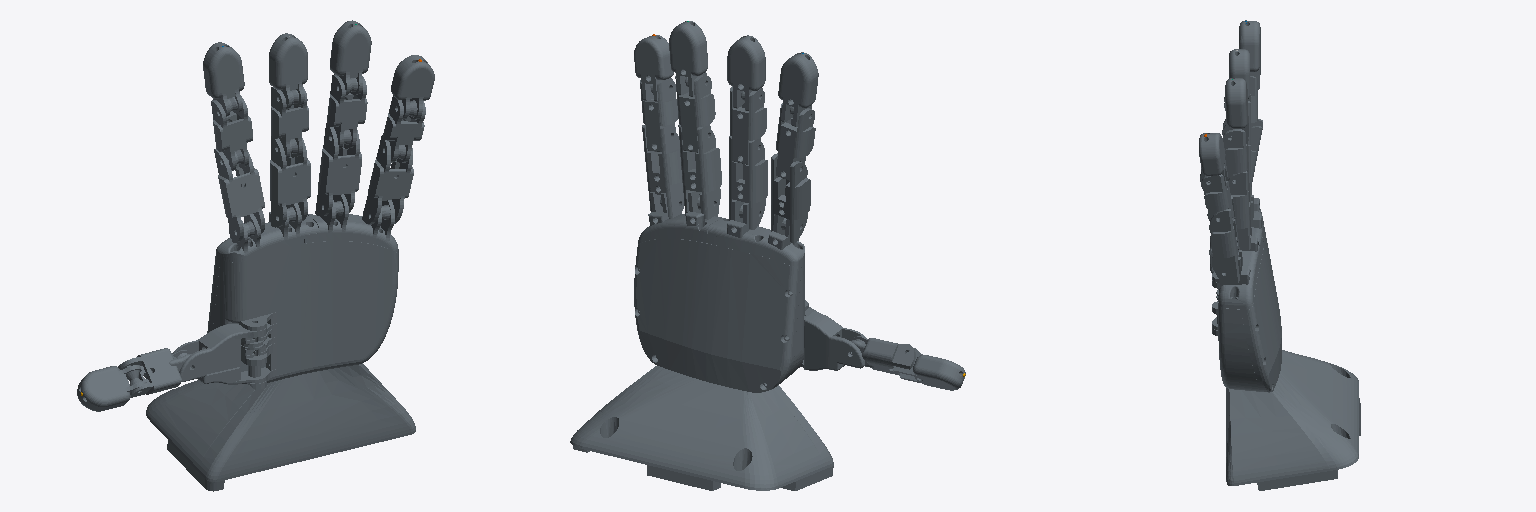
The robot description file, URDF, robot "ruka_left_hand":
<?xml version='1.0' encoding='utf-8'?>
<robot name="ruka_left_hand">
  <material name="ruka_grey">
    <color rgba="0.439 0.475 0.502 1" />
  </material>
  <link name="base_link">
    <inertial>
      <origin xyz="0 0 0" rpy="0 0 0" />
      <mass value="0.001" />
      <inertia ixx="1e-06" ixy="0" ixz="0" iyy="1e-06" iyz="0" izz="1e-06" />
    </inertial>
  </link>
  <joint name="base_to_palm" type="fixed">
    <parent link="base_link" />
    <child link="Palm_Link" />
    <origin xyz="0 0 0" rpy="3.14159265 0 0" />
  </joint>
  <link name="Palm_Link">
    <inertial>
      <origin xyz="0 0 0" rpy="0 0 0" />
      <mass value="0.05" />
      <inertia ixx="0.0001" ixy="0" ixz="0" iyy="0.0001" iyz="0" izz="0.0001" />
    </inertial>
    <visual name="Palm">
      <origin xyz="0 0 0" rpy="0 -0 0" />
      <geometry>
        <mesh filename="meshes_left/Palm.STL" />
      </geometry>
      <material name="ruka_grey">
        <color rgba="0.439 0.475 0.502 1" />
      </material>
    </visual>
    <collision name="Palm_c">
      <origin xyz="-0.004 0.009 -0.02" rpy="0 -0 0" />
      <geometry>
        <box size="0.084 0.021 0.116" />
      </geometry>
    </collision>
  </link>
  <joint name="Index_MCP_Joint" type="revolute">
    <parent link="Palm_Link" />
    <child link="Index_MCP_Link" />
    <origin xyz="-0.0322 0.0146007 -0.08022" rpy="2.53259463 1.36009924 -2.12570493" />
    <axis xyz="0 1 0" />
    <limit lower="-2.44222" upper="-0" effort="10" velocity="10" />
    <dynamics damping="0.05" friction="0.01" />
  </joint>
  <link name="Index_MCP_Link">
    <inertial>
      <origin xyz="-0.0288724 -1.28993e-08 0.00378475" rpy="0 0 0" />
      <mass value="0.00327912" />
      <inertia ixx="1.41290423e-07" ixy="0" ixz="8.23038687e-10" iyy="3.58574e-07" iyz="0" izz="4.20814577e-07" />
    </inertial>
    <collision name="Index_MCP_C">
      <origin xyz="0.016 0.005 0.0001" rpy="0 -0 0" />
      <geometry>
        <box size="0.03 0.014 0.01" />
      </geometry>
    </collision>
    <visual name="Index_MCP">
      <origin xyz="0.046 0.005 -0.003" rpy="0 -0 0" />
      <geometry>
        <mesh filename="meshes_left/Index_MCP.STL" />
      </geometry>
      <material name="ruka_grey">
        <color rgba="0.439 0.475 0.502 1" />
      </material>
    </visual>
  </link>
  <joint name="Index_DIP_Joint" type="revolute">
    <parent link="Index_MCP_Link" />
    <child link="Index_DIP_Link" />
    <origin xyz="0.035057 0 0.002" rpy="0 -0.174529998 0" />
    <axis xyz="0 1 0" />
    <limit lower="-2.09" upper="-0" effort="10" velocity="10" />
    <dynamics damping="0.05" friction="0.01" />
  </joint>
  <link name="Index_DIP_Link">
    <inertial>
      <origin xyz="-0.000734414 -1.34435e-07 0.00333493" rpy="0 0 0" />
      <mass value="0.0030053" />
      <inertia ixx="9.14346587e-08" ixy="0" ixz="-9.51029437e-09" iyy="2.50136e-07" iyz="0" izz="2.77490141e-07" />
    </inertial>
    <visual name="Index_DIP">
      <origin xyz="0.012 0.005 -0.003" rpy="0 -0 0" />
      <geometry>
        <mesh filename="meshes_left/Index_DIP.STL" />
      </geometry>
      <material name="ruka_grey">
        <color rgba="0.439 0.475 0.502 1" />
      </material>
    </visual>
    <collision name="Index_DIP_c">
      <origin xyz="0.012 0.005 0" rpy="0 -0 0" />
      <geometry>
        <box size="0.034 0.014 0.01" />
      </geometry>
    </collision>
  </link>
  <joint name="Index_PIP_Joint" type="revolute">
    <parent link="Index_DIP_Link" />
    <child link="Index_PIP_Link" />
    <origin xyz="0.027 0.0045 0.001" rpy="0 -0 0" />
    <axis xyz="0 1 0" />
    <limit lower="-2.09" upper="-0" effort="10" velocity="10" />
    <dynamics damping="0.05" friction="0.01" />
  </joint>
  <link name="Index_PIP_Link">
    <inertial>
      <origin xyz="0.0274083 1.00211e-07 0.00320314" rpy="0 0 0" />
      <mass value="0.00356977" />
      <inertia ixx="1.11979619e-07" ixy="-1.93265309e-12" ixz="1.23407277e-08" iyy="2.91756e-07" iyz="1.0799934e-13" izz="3.32127381e-07" />
    </inertial>
    <visual name="Index_PIP">
      <origin xyz="-0.013 0.0004 -0.005" rpy="0 -0 0" />
      <geometry>
        <mesh filename="meshes_left/Index_PIP.STL" />
      </geometry>
      <material name="ruka_grey">
        <color rgba="0.439 0.475 0.502 1" />
      </material>
    </visual>
    <collision name="Index_PIP_c">
      <origin xyz="0.015 0.0004 -0.002" rpy="0 -0 0" />
      <geometry>
        <box size="0.029 0.014 0.01" />
      </geometry>
    </collision>
    <visual name="Index_TIP">
      <origin xyz="0.03 0 0" rpy="0 -0 0" />
      <geometry>
        <sphere radius="0.001" />
      </geometry>
    </visual>
  </link>
  <joint name="Middle_MCP_Joint" type="revolute">
    <parent link="Palm_Link" />
    <child link="Middle_MCP_Link" />
    <origin xyz="-0.01518 0.0135414 -0.081" rpy="-1.57079633 1.57079633 0" />
    <axis xyz="0 1 0" />
    <limit lower="-2.44222" upper="-0" effort="10" velocity="10" />
    <dynamics damping="0.05" friction="0.01" />
  </joint>
  <link name="Middle_MCP_Link">
    <inertial>
      <origin xyz="-0.0288724 -9.49408e-09 0.00378477" rpy="0 0 0" />
      <mass value="0.00327911" />
      <inertia ixx="1.41290423e-07" ixy="0" ixz="8.23032798e-10" iyy="3.58572e-07" iyz="0" izz="4.20812577e-07" />
    </inertial>
    <visual name="Middle_MCP">
      <origin xyz="0.046 0 -0.003" rpy="0 -0 0" />
      <geometry>
        <mesh filename="meshes_left/Middle_MCP.STL" />
      </geometry>
      <material name="ruka_grey">
        <color rgba="0.439 0.475 0.502 1" />
      </material>
    </visual>
    <collision name="Middle_MCP_c">
      <origin xyz="0.016 0 0.0001" rpy="0 -0 0" />
      <geometry>
        <box size="0.034 0.014 0.01" />
      </geometry>
    </collision>
  </link>
  <joint name="Middle_DIP_Joint" type="revolute">
    <parent link="Middle_MCP_Link" />
    <child link="Middle_DIP_Link" />
    <origin xyz="0.034 0 0" rpy="0 -0 0" />
    <axis xyz="0 1 0" />
    <limit lower="-2.09" upper="-0" effort="10" velocity="10" />
    <dynamics damping="0.05" friction="0.01" />
  </joint>
  <link name="Middle_DIP_Link">
    <inertial>
      <origin xyz="-0.000734412 -1.31357e-07 0.00333494" rpy="0 0 0" />
      <mass value="0.0030053" />
      <inertia ixx="9.14347584e-08" ixy="0" ixz="-9.51028928e-09" iyy="2.50136e-07" iyz="0" izz="2.77490142e-07" />
    </inertial>
    <visual name="Middle_DIP">
      <origin xyz="0.012 0 -0.003" rpy="0 -0 0" />
      <geometry>
        <mesh filename="meshes_left/Middle_DIP.STL" />
      </geometry>
      <material name="ruka_grey">
        <color rgba="0.439 0.475 0.502 1" />
      </material>
    </visual>
    <collision name="Middle_DIP_c">
      <origin xyz="0.012 0 0" rpy="0 -0 0" />
      <geometry>
        <box size="0.034 0.014 0.01" />
      </geometry>
    </collision>
  </link>
  <joint name="Middle_PIP_Joint" type="revolute">
    <parent link="Middle_DIP_Link" />
    <child link="Middle_PIP_Link" />
    <origin xyz="0.026 0 0.002" rpy="0 -0 0" />
    <axis xyz="0 1 0" />
    <limit lower="-2.09" upper="-0" effort="10" velocity="10" />
    <dynamics damping="0.05" friction="0.01" />
  </joint>
  <link name="Middle_PIP_Link">
    <inertial>
      <origin xyz="0.0274083 9.97469e-08 0.00320314" rpy="0 0 0" />
      <mass value="0.00356977" />
      <inertia ixx="1.11979619e-07" ixy="-1.75842084e-12" ixz="1.23407277e-08" iyy="2.91756e-07" iyz="9.82628583e-14" izz="3.32127381e-07" />
    </inertial>
    <visual name="Middle_PIP">
      <origin xyz="-0.014 0 -0.0045" rpy="0 -0 0" />
      <geometry>
        <mesh filename="meshes_left/Middle_PIP.STL" />
      </geometry>
      <material name="ruka_grey">
        <color rgba="0.439 0.475 0.502 1" />
      </material>
    </visual>
    <collision name="Middle_PIP_c">
      <origin xyz="0.015 0.0004 -0.002" rpy="0 -0 0" />
      <geometry>
        <box size="0.029 0.014 0.01" />
      </geometry>
    </collision>
    <visual name="Middle_TIP">
      <origin xyz="0.029 0 0" rpy="0 -0 0" />
      <geometry>
        <sphere radius="0.001" />
      </geometry>
    </visual>
  </link>
  <joint name="Ring_MCP_Joint" type="revolute">
    <parent link="Palm_Link" />
    <child link="Ring_MCP_Link" />
    <origin xyz="0.0088 0.01453 -0.08009" rpy="-1.28059549 1.45980129 0.348614064" />
    <axis xyz="0 1 0" />
    <limit lower="-2.44222" upper="-0" effort="10" velocity="10" />
    <dynamics damping="0.05" friction="0.01" />
  </joint>
  <link name="Ring_MCP_Link">
    <inertial>
      <origin xyz="-0.0288724 -7.11557e-09 0.00378476" rpy="0 0 0" />
      <mass value="0.00327912" />
      <inertia ixx="1.41290423e-07" ixy="0" ixz="8.23038687e-10" iyy="3.58574e-07" iyz="0" izz="4.20814577e-07" />
    </inertial>
    <visual name="Ring_MCP">
      <origin xyz="0.046 0 -0.004" rpy="0 -0 0" />
      <geometry>
        <mesh filename="meshes_left/Ring_MCP.STL" />
      </geometry>
      <material name="ruka_grey">
        <color rgba="0.439 0.475 0.502 1" />
      </material>
    </visual>
    <collision name="Ring_MCP_c">
      <origin xyz="0.016 0 0.0001" rpy="0 -0 0" />
      <geometry>
        <box size="0.03 0.014 0.01" />
      </geometry>
    </collision>
  </link>
  <joint name="Ring_DIP_Joint" type="revolute">
    <parent link="Ring_MCP_Link" />
    <child link="Ring_DIP_Link" />
    <origin xyz="0.036 0 0" rpy="0 -0 0" />
    <axis xyz="0 1 0" />
    <limit lower="-2.09" upper="-0" effort="10" velocity="10" />
    <dynamics damping="0.05" friction="0.01" />
  </joint>
  <link name="Ring_DIP_Link">
    <inertial>
      <origin xyz="-0.000734409 -1.29347e-07 0.00333494" rpy="0 0 0" />
      <mass value="0.00300529" />
      <inertia ixx="9.14347584e-08" ixy="0" ixz="-9.51028928e-09" iyy="2.50136e-07" iyz="0" izz="2.77490142e-07" />
    </inertial>
    <visual name="Ring_DIP">
      <origin xyz="0.01 0 -0.004" rpy="0 -0 0" />
      <geometry>
        <mesh filename="meshes_left/Ring_DIP.STL" />
      </geometry>
      <material name="ruka_grey">
        <color rgba="0.439 0.475 0.502 1" />
      </material>
    </visual>
    <collision name="Ring_DIP_c">
      <origin xyz="0.01 0 0" rpy="0 -0 0" />
      <geometry>
        <box size="0.03 0.014 0.01" />
      </geometry>
    </collision>
  </link>
  <joint name="Ring_PIP_Joint" type="revolute">
    <parent link="Ring_DIP_Link" />
    <child link="Ring_PIP_Link" />
    <origin xyz="0.025746 0 0" rpy="0 -0 0" />
    <axis xyz="0 1 0" />
    <limit lower="-2.09" upper="-0" effort="10" velocity="10" />
    <dynamics damping="0.05" friction="0.01" />
  </joint>
  <link name="Ring_PIP_Link">
    <inertial>
      <origin xyz="0.0274083 1.00945e-07 0.00320315" rpy="0 0 0" />
      <mass value="0.00356976" />
      <inertia ixx="1.1197958e-07" ixy="-1.68673134e-12" ixz="1.23403521e-08" iyy="2.91756e-07" iyz="9.42545028e-14" izz="3.3212642e-07" />
    </inertial>
    <visual name="Ring_PIP">
      <origin xyz="-0.015 0 -0.005" rpy="0 -0 0" />
      <geometry>
        <mesh filename="meshes_left/Ring_PIP.STL" />
      </geometry>
      <material name="ruka_grey">
        <color rgba="0.439 0.475 0.502 1" />
      </material>
    </visual>
    <collision name="Ring_PIP_c">
      <origin xyz="0.013 0.0001 -0.0017" rpy="0 -0 0" />
      <geometry>
        <box size="0.028 0.014 0.01" />
      </geometry>
    </collision>
    <visual name="Ring_TIP">
      <origin xyz="0.028 0 0" rpy="0 -0 0" />
      <geometry>
        <sphere radius="0.001" />
      </geometry>
    </visual>
  </link>
  <joint name="Pinky_MCP_Joint" type="revolute">
    <parent link="Palm_Link" />
    <child link="Pinky_MCP_Link" />
    <origin xyz="0.030617 0.020313 -0.07398" rpy="-1.14039703 1.36180011 0.55660297" />
    <axis xyz="0 1 0" />
    <limit lower="-2.44222" upper="-0" effort="10" velocity="10" />
    <dynamics damping="0.05" friction="0.01" />
  </joint>
  <link name="Pinky_MCP_Link">
    <inertial>
      <origin xyz="-0.0268917 -2.1328e-08 0.00337657" rpy="0 0 0" />
      <mass value="0.00308279" />
      <inertia ixx="1.30752033e-07" ixy="-1.67729172e-12" ixz="-2.08801325e-09" iyy="3.31476e-07" iyz="-1.36821654e-14" izz="3.86700967e-07" />
    </inertial>
    <visual name="Pinky_MCP">
      <origin xyz="0.042 0 -0.004" rpy="0 -0 0" />
      <geometry>
        <mesh filename="meshes_left/Pinky_MCP.STL" />
      </geometry>
      <material name="ruka_grey">
        <color rgba="0.439 0.475 0.502 1" />
      </material>
    </visual>
    <collision name="Pinky_MCP_c">
      <origin xyz="0.014 0 0" rpy="0 -0 0" />
      <geometry>
        <box size="0.034 0.014 0.01" />
      </geometry>
    </collision>
  </link>
  <joint name="Pinky_DIP_Joint" type="revolute">
    <parent link="Pinky_MCP_Link" />
    <child link="Pinky_DIP_Link" />
    <origin xyz="0.032 0 0" rpy="0 -0.0277350847 0" />
    <axis xyz="0 1 0" />
    <limit lower="-2.09" upper="-0" effort="10" velocity="10" />
    <dynamics damping="0.05" friction="0.01" />
  </joint>
  <link name="Pinky_DIP_Link">
    <inertial>
      <origin xyz="-0.000757212 -1.38277e-07 0.00329943" rpy="0 0 0" />
      <mass value="0.00260945" />
      <inertia ixx="7.77156573e-08" ixy="0" ixz="-8.13321083e-09" iyy="1.89485e-07" iyz="0" izz="2.12042343e-07" />
    </inertial>
    <visual name="Pinky_DIP">
      <origin xyz="0.01 0 -0.0037" rpy="0 -0 0" />
      <geometry>
        <mesh filename="meshes_left/Pinky_DIP.STL" />
      </geometry>
      <material name="ruka_grey">
        <color rgba="0.439 0.475 0.502 1" />
      </material>
    </visual>
    <collision name="Pinky_DIP_c">
      <origin xyz="0.01 0 0" rpy="0 -0 0" />
      <geometry>
        <box size="0.03 0.014 0.01" />
      </geometry>
    </collision>
  </link>
  <joint name="Pinky_PIP_Joint" type="revolute">
    <parent link="Pinky_DIP_Link" />
    <child link="Pinky_PIP_Link" />
    <origin xyz="0.023 0 0.001" rpy="0 -0 0" />
    <axis xyz="0 1 0" />
    <limit lower="-2.09" upper="-0" effort="10" velocity="10" />
    <dynamics damping="0.05" friction="0.01" />
  </joint>
  <link name="Pinky_PIP_Link">
    <inertial>
      <origin xyz="0.0236575 -8.70958e-08 0.00338829" rpy="0 0 0" />
      <mass value="0.00306875" />
      <inertia ixx="9.65855589e-08" ixy="-1.43811057e-12" ixz="6.92874012e-09" iyy="1.96147e-07" iyz="7.42142439e-14" izz="2.30492441e-07" />
    </inertial>
    <visual name="Pinky_PIP">
      <origin xyz="-0.013 0 -0.005" rpy="0 -0 0" />
      <geometry>
        <mesh filename="meshes_left/Pinky_PIP.STL" />
      </geometry>
      <material name="ruka_grey">
        <color rgba="0.439 0.475 0.502 1" />
      </material>
    </visual>
    <collision name="Pinky_PIP_c">
      <origin xyz="0.0125 0.0001 -0.0017" rpy="0 -0 0" />
      <geometry>
        <box size="0.021 0.014 0.01" />
      </geometry>
    </collision>
    <visual name="Pinky_TIP">
      <origin xyz="0.024 0 0" rpy="0 -0 0" />
      <geometry>
        <sphere radius="0.001" />
      </geometry>
    </visual>
  </link>
  <joint name="Thumb_CMC_Joint" type="revolute">
    <parent link="Palm_Link" />
    <child link="Thumb_MCP_Link" />
    <origin xyz="-0.037688 0.022225 -0.025118" rpy="-1.57079916 9.63556251e-08 -0.0318549558" />
    <axis xyz="0 1 0" />
    <limit lower="-0" upper="3.314" effort="10" velocity="10" />
    <dynamics damping="0.05" friction="0.01" />
  </joint>
  <link name="Thumb_MCP_Link">
    <inertial>
      <origin xyz="-0.0162526 -0.00468252 0.00333969" rpy="0 0 0" />
      <mass value="0.00526715" />
      <inertia ixx="3.78342689e-07" ixy="-3.4535164e-09" ixz="-5.79254673e-08" iyy="5.49214734e-07" iyz="1.80650659e-10" izz="7.44165578e-07" />
    </inertial>
    <visual name="Thumb_MCP">
      <origin xyz="0 0 -0.007" rpy="0 -0 0" />
      <geometry>
        <mesh filename="meshes_left/Thumb_MCP.STL" />
      </geometry>
      <material name="ruka_grey">
        <color rgba="0.439 0.475 0.502 1" />
      </material>
    </visual>
    <collision name="Thumb_MCP_c">
      <origin xyz="-0.013 -0.003 -0.0032" rpy="0 -0 0" />
      <geometry>
        <box size="0.04 0.027 0.01" />
      </geometry>
    </collision>
  </link>
  <joint name="Thumb_MCP_Joint" type="revolute">
    <parent link="Thumb_MCP_Link" />
    <child link="Thumb_DIP_Link" />
    <origin xyz="-0.033935 -0.0044094 -0.0065999" rpy="1.57079067 7.50547535e-12 3.14158531" />
    <axis xyz="0 1 0" />
    <limit lower="-1.57" upper="-0" effort="10" velocity="10" />
    <dynamics damping="0.05" friction="0.01" />
  </joint>
  <link name="Thumb_DIP_Link">
    <inertial>
      <origin xyz="0.000359156 5.0434e-05 0.00349653" rpy="0 0 0" />
      <mass value="0.0033002" />
      <inertia ixx="1.24638475e-07" ixy="9.75172684e-10" ixz="-2.30332076e-09" iyy="2.79541579e-07" iyz="5.24312214e-10" izz="3.34593945e-07" />
    </inertial>
    <visual name="Thumb_DIP">
      <origin xyz="0.013 0 -0.0019" rpy="-0.799999365 -0 0" />
      <geometry>
        <mesh filename="meshes_left/Thumb_DIP.STL" />
      </geometry>
      <material name="ruka_grey">
        <color rgba="0.439 0.475 0.502 1" />
      </material>
    </visual>
    <collision name="Thumb_DIP_c">
      <origin xyz="0.013 0.003 0.0005" rpy="-0.799999365 -0 0" />
      <geometry>
        <box size="0.03 0.014 0.01" />
      </geometry>
    </collision>
  </link>
  <joint name="Thumb_IP_Joint" type="revolute">
    <parent link="Thumb_DIP_Link" />
    <child link="Thumb_PIP_Link" />
    <origin xyz="0.027794 0.0035 7e-06" rpy="-0.78539962 -0 0" />
    <axis xyz="0 1 0" />
    <limit lower="-2.09" upper="-0" effort="10" velocity="10" />
    <dynamics damping="0.05" friction="0.01" />
  </joint>
  <link name="Thumb_PIP_Link">
    <inertial>
      <origin xyz="0.0282104 -4.96887e-08 0.00319437" rpy="0 0 0" />
      <mass value="0.00347336" />
      <inertia ixx="1.22784449e-07" ixy="3.67581857e-12" ixz="1.15066299e-08" iyy="2.59469e-07" iyz="-2.23121257e-13" izz="3.11652551e-07" />
    </inertial>
    <visual name="Thumb_PIP">
      <origin xyz="-0.015 0 -0.005" rpy="0 -0 0" />
      <geometry>
        <mesh filename="meshes_left/Thumb_PIP.STL" />
      </geometry>
      <material name="ruka_grey">
        <color rgba="0.439 0.475 0.502 1" />
      </material>
    </visual>
    <collision name="Thumb_PIP_c">
      <origin xyz="0.013 0 -0.0017" rpy="0 -0 0" />
      <geometry>
        <box size="0.026 0.015 0.01" />
      </geometry>
    </collision>
    <visual name="Thumb_TIP">
      <origin xyz="0.028 0 0" rpy="0 -0 0" />
      <geometry>
        <sphere radius="0.001" />
      </geometry>
    </visual>
  </link>
</robot>

--- What the picture shows (computed from the rendered views, not written in the file) ---
The picture shows the robot from 3 angles, left to right: view 1: azimuth 30°, elevation 25°; view 2: azimuth 150°, elevation 25°; view 3: azimuth 270°, elevation 25°; orthographic projection.
Model ruka_left_hand with 17 links and 16 joints (15 revolute, 1 fixed), rooted at base_link, posed every joint at zero.
Visible links, largest first — view 1: Palm_Link, Thumb_MCP_Link, Ring_MCP_Link, Middle_MCP_Link, Index_MCP_Link, Pinky_MCP_Link, Ring_PIP_Link, Index_PIP_Link, Middle_PIP_Link, Thumb_PIP_Link, Pinky_PIP_Link, Index_DIP_Link (+4 smaller); view 2: Palm_Link, Thumb_MCP_Link, Ring_MCP_Link, Pinky_MCP_Link, Middle_MCP_Link, Index_MCP_Link, Ring_PIP_Link, Middle_PIP_Link, Index_PIP_Link, Ring_DIP_Link, Middle_DIP_Link, Index_DIP_Link (+4 smaller); view 3: Palm_Link, Pinky_MCP_Link, Ring_PIP_Link, Ring_MCP_Link, Pinky_PIP_Link, Ring_DIP_Link, Pinky_DIP_Link, Index_PIP_Link, Middle_PIP_Link.
Link boxes in pixels (x1,y1,x2,y2): Palm_Link: [146, 194, 415, 491]; Thumb_MCP_Link: [172, 324, 266, 384]; Ring_MCP_Link: [315, 123, 361, 216]; Middle_MCP_Link: [270, 136, 310, 227]; Index_MCP_Link: [214, 149, 264, 242]; Pinky_MCP_Link: [362, 135, 413, 224]; Ring_PIP_Link: [330, 20, 371, 95]; Index_PIP_Link: [203, 42, 244, 116]; Middle_PIP_Link: [269, 33, 307, 108]; Thumb_PIP_Link: [77, 365, 146, 411]; Pinky_PIP_Link: [391, 55, 434, 119]; Index_DIP_Link: [211, 95, 252, 170]; Palm_Link: [570, 191, 833, 490]; Thumb_MCP_Link: [801, 307, 865, 370]; Ring_MCP_Link: [678, 124, 721, 219]; Pinky_MCP_Link: [642, 125, 683, 218]; Middle_MCP_Link: [729, 136, 767, 229]; Index_MCP_Link: [771, 153, 810, 243]; Ring_PIP_Link: [669, 21, 707, 96]; Middle_PIP_Link: [727, 35, 765, 110]; Index_PIP_Link: [778, 52, 818, 126]; Ring_DIP_Link: [675, 75, 715, 152]; Middle_DIP_Link: [730, 86, 766, 164]; Index_DIP_Link: [776, 103, 815, 180]; Palm_Link: [1212, 187, 1360, 490]; Pinky_MCP_Link: [1209, 196, 1239, 282]; Ring_PIP_Link: [1222, 78, 1248, 143]; Ring_MCP_Link: [1228, 171, 1251, 250]; Pinky_PIP_Link: [1199, 133, 1227, 186]; Ring_DIP_Link: [1223, 129, 1248, 190]; Pinky_DIP_Link: [1201, 174, 1234, 222]; Index_PIP_Link: [1239, 20, 1260, 89]; Middle_PIP_Link: [1224, 49, 1249, 110].
Size in the robot's own frame: 0.1803 by 0.0813 by 0.2174 metres.
Meshes: 16 distinct files referenced, 16 mesh visuals loaded (16 binary STL).
